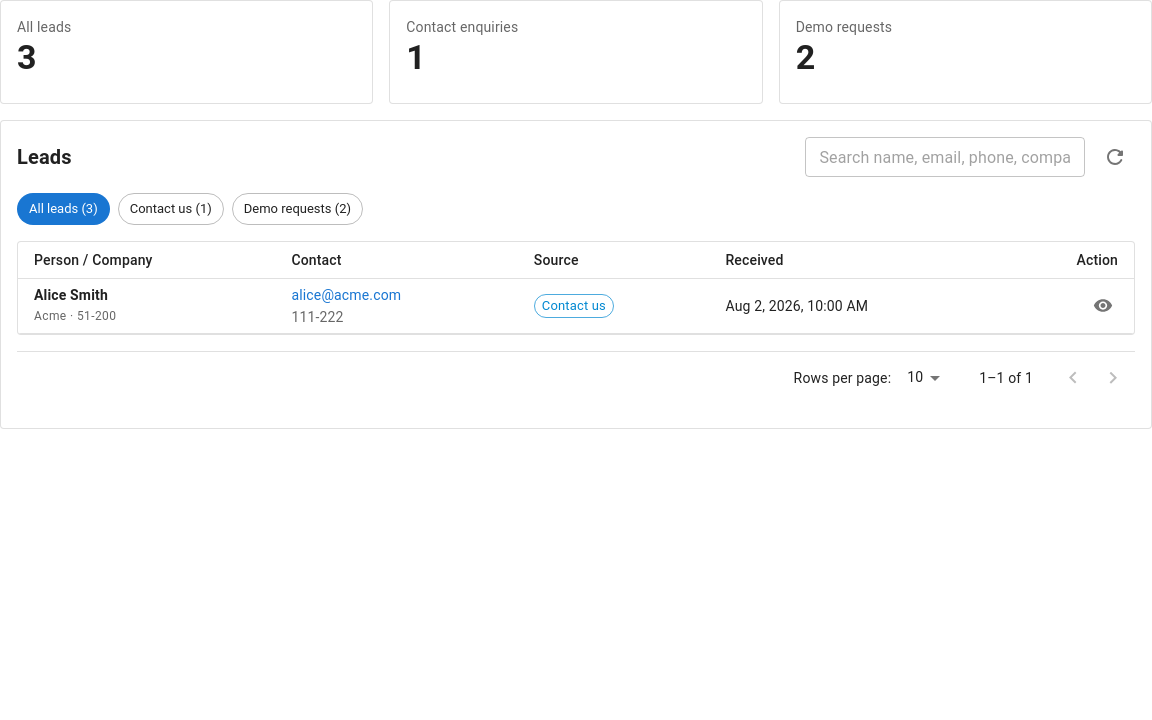
LeadsPage › renders leads list and opens details
The image size is (1152, 720).
Expected: the text "Alice Smith" is shown, left=34, top=287, right=108, bottom=303
Expected: the text "Acme · 51-200" is shown, left=34, top=309, right=116, bottom=323
Click the button named "View lead Alice Smith" at (1103, 306), box left=1088, top=291, right=1118, bottom=321
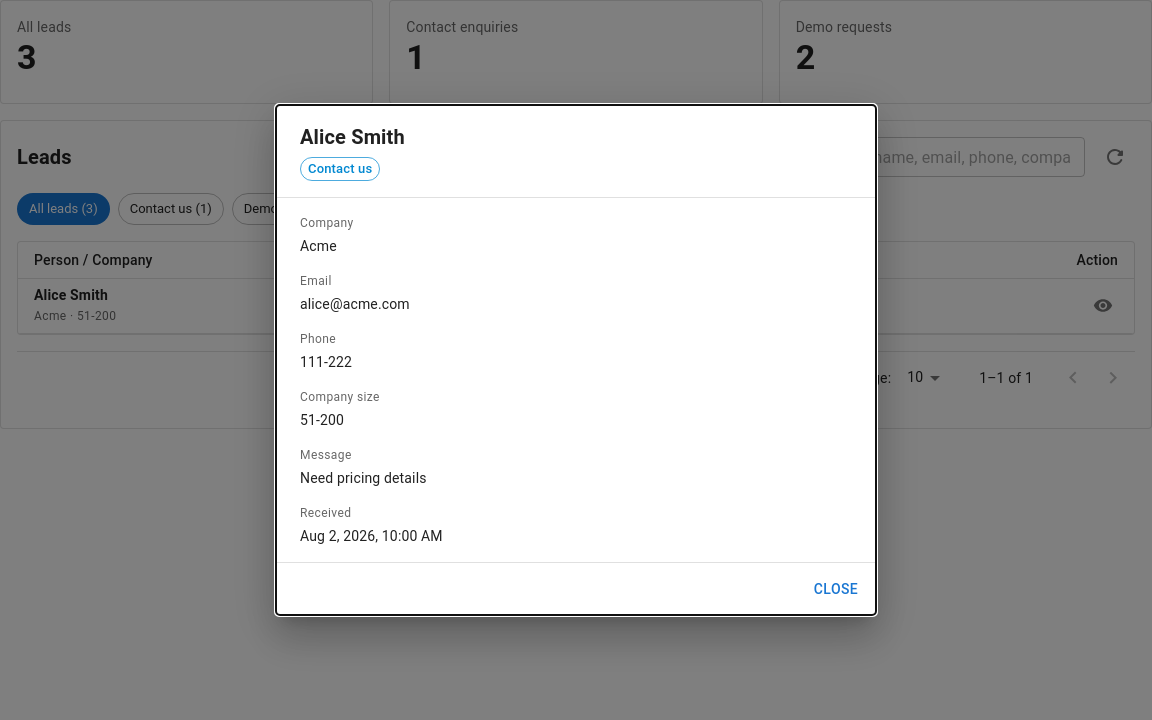
Expected: the text "Need pricing details" is shown, left=300, top=470, right=427, bottom=486
